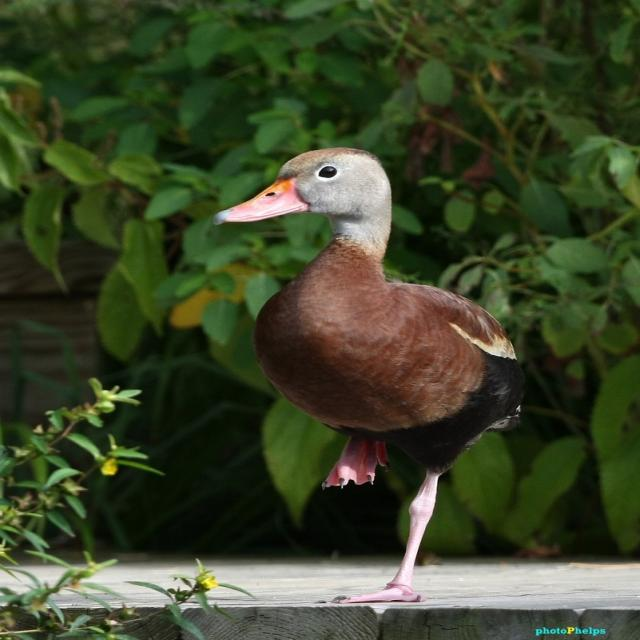bird: (216, 147, 523, 604)
